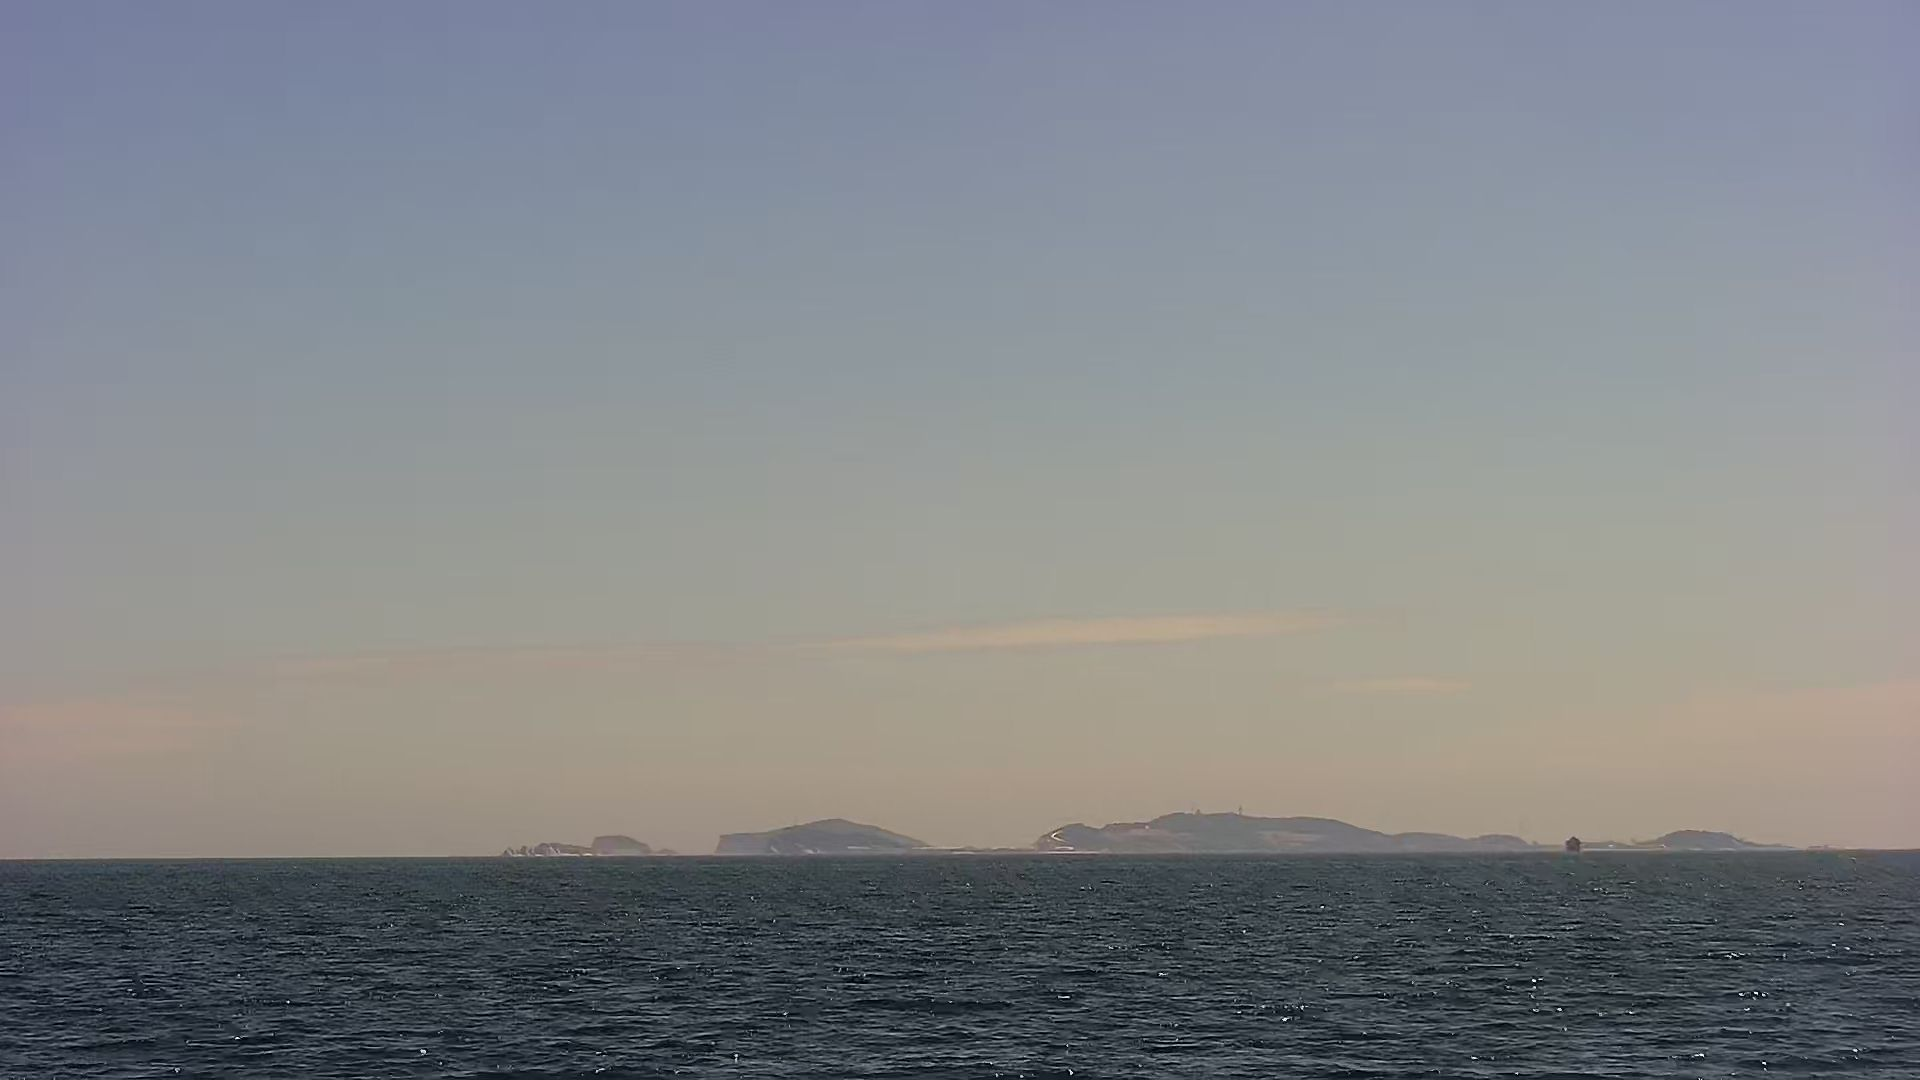rock: (1039, 796, 1828, 858), (709, 818, 957, 856), (502, 823, 682, 858)
